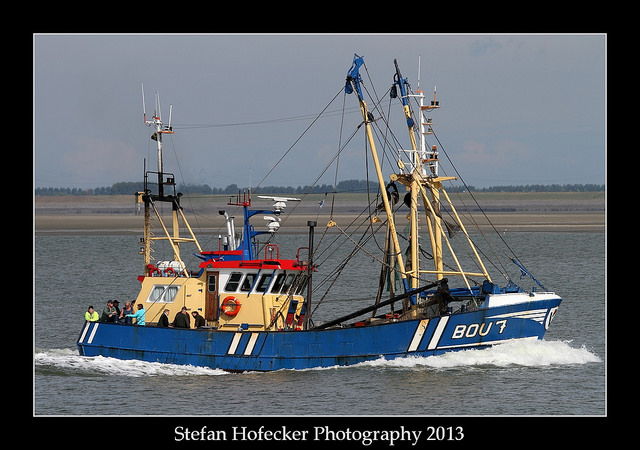fishing_boat: (77, 79, 563, 372)
